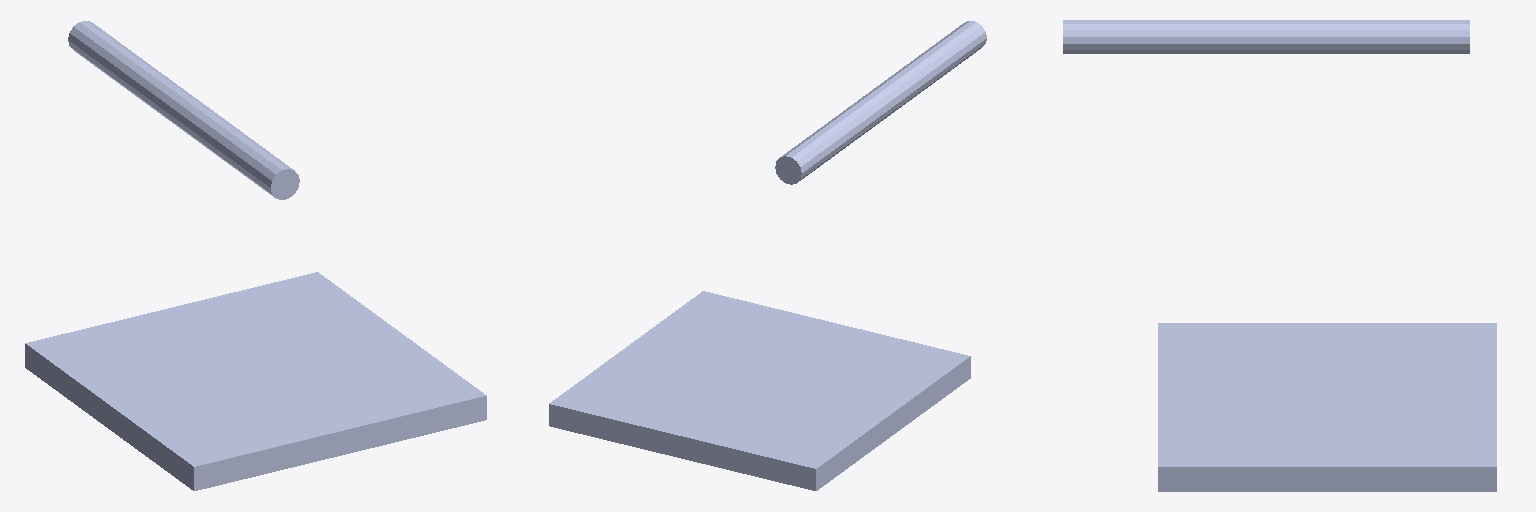
The robot description file, URDF, robot "grasp":
<?xml version="1.0" encoding="utf-8"?>
<!-- This URDF was automatically created by SolidWorks to URDF Exporter! Originally created by Stephen Brawner (brawner@gmail.com) 
     Commit Version: 1.6.0-4-g7f85cfe  Build Version: 1.6.7995.38578
     For more information, please see http://wiki.ros.org/sw_urdf_exporter -->
<robot
  name="grasp">
  <link
    name="base_link">
    <inertial>
      <origin
        xyz="-1.74535037196456E-17 -0.00816566234932665 1.62758265662701E-17"
        rpy="0 0 0" />
      <mass
        value="0.110137166941154" />
      <inertia
        ixx="0.000119442941686907"
        ixy="-2.18819689009832E-21"
        ixz="1.00533007844443E-20"
        iyy="0.000201561725123519"
        iyz="-5.82720918507605E-21"
        izz="8.42429416869073E-05" />
    </inertial>
    <visual>
      <origin
        xyz="0 0 0"
        rpy="0 0 0" />
      <geometry>
        <mesh
          filename="package://grasp/meshes/base_link.STL" />
      </geometry>
      <material
        name="">
        <color
          rgba="0.792156862745098 0.819607843137255 0.933333333333333 1" />
      </material>
    </visual>
    <collision>
      <origin
        xyz="0 0 0"
        rpy="0 0 0" />
      <geometry>
        <mesh
          filename="package://grasp/meshes/base_link.STL" />
      </geometry>
    </collision>
  </link>
  <link
    name="ld">
    <inertial>
      <origin
        xyz="-8.61561256365606E-19 0.02 0.004"
        rpy="0 0 0" />
      <mass
        value="0.08" />
      <inertia
        ixx="6.70933333333333E-05"
        ixy="2.52899986831941E-20"
        ixz="-1.69445820945071E-20"
        iyy="6.70933333333333E-05"
        iyz="-4.22319333728353E-22"
        izz="0.000133333333333333" />
    </inertial>
    <visual>
      <origin
        xyz="0 0 0"
        rpy="0 0 0" />
      <geometry>
        <mesh
          filename="package://grasp/meshes/ld.STL" />
      </geometry>
      <material
        name="">
        <color
          rgba="0.792156862745098 0.819607843137255 0.933333333333333 1" />
      </material>
    </visual>
    <collision>
      <origin
        xyz="0 0 0"
        rpy="0 0 0" />
      <geometry>
        <mesh
          filename="package://grasp/meshes/ld.STL" />
      </geometry>
    </collision>
  </link>
  <joint
    name="jd"
    type="fixed">
    <origin
      xyz="0 -0.035 -0.068"
      rpy="0 0 3.1416" />
    <parent
      link="base_link" />
    <child
      link="ld" />
    <axis
      xyz="0 0 0" />
  </joint>
  <link
    name="lu1">
    <inertial>
      <origin
        xyz="0 0 0.06"
        rpy="0 0 0" />
      <mass
        value="0.00942477796076938" />
      <inertia
        ixx="1.13686384151781E-05"
        ixy="-1.99136488891556E-56"
        ixz="1.19366462190883E-38"
        iyy="1.13686384151781E-05"
        iyz="-5.46392484019368E-39"
        izz="1.17809724509617E-07" />
    </inertial>
    <visual>
      <origin
        xyz="0 0 0"
        rpy="0 0 0" />
      <geometry>
        <mesh
          filename="package://grasp/meshes/lu1.STL" />
      </geometry>
      <material
        name="">
        <color
          rgba="0.792156862745098 0.819607843137255 0.933333333333333 1" />
      </material>
    </visual>
    <collision>
      <origin
        xyz="0 0 0"
        rpy="0 0 0" />
      <geometry>
        <mesh
          filename="package://grasp/meshes/lu1.STL" />
      </geometry>
    </collision>
  </link>
  <joint
    name="ju1"
    type="fixed">
    <origin
      xyz="-0.035 -0.013 0.04"
      rpy="1.5708 0 0" />
    <parent
      link="base_link" />
    <child
      link="lu1" />
    <axis
      xyz="0 0 0" />
  </joint>
  <link
    name="lu2">
    <inertial>
      <origin
        xyz="-6.93889390390723E-18 0 0.06"
        rpy="0 0 0" />
      <mass
        value="0.00942477796076938" />
      <inertia
        ixx="1.13686384151781E-05"
        ixy="-1.99136488891556E-56"
        ixz="1.19366462190883E-38"
        iyy="1.13686384151781E-05"
        iyz="-5.46392484019368E-39"
        izz="1.17809724509617E-07" />
    </inertial>
    <visual>
      <origin
        xyz="0 0 0"
        rpy="0 0 0" />
      <geometry>
        <mesh
          filename="package://grasp/meshes/lu2.STL" />
      </geometry>
      <material
        name="">
        <color
          rgba="0.792156862745098 0.819607843137255 0.933333333333333 1" />
      </material>
    </visual>
    <collision>
      <origin
        xyz="0 0 0"
        rpy="0 0 0" />
      <geometry>
        <mesh
          filename="package://grasp/meshes/lu2.STL" />
      </geometry>
    </collision>
  </link>
  <joint
    name="ju2"
    type="fixed">
    <origin
      xyz="0.035 -0.013 0.04"
      rpy="1.5708 0 0" />
    <parent
      link="base_link" />
    <child
      link="lu2" />
    <axis
      xyz="0 0 0" />
  </joint>
</robot>

--- Facts derived from the render (not from the file) ---
The picture shows the robot from 3 angles, left to right: view 1: azimuth 30°, elevation 25°; view 2: azimuth 150°, elevation 25°; view 3: azimuth 270°, elevation 25°; orthographic projection.
Robot: grasp — 4 links, 3 joints (3 fixed); root link base_link; default pose: every joint at zero.
Visible links, largest first — view 1: ld, lu1; view 2: ld, lu1; view 3: ld, lu1.
Link boxes in pixels (x1,y1,x2,y2): ld: (25,272,486,490); lu1: (68,21,299,199); ld: (549,291,970,490); lu1: (775,21,986,184); ld: (1158,323,1496,491); lu1: (1063,20,1469,53).
Size in the robot's own frame: 0.1 by 0.128 by 0.1129 metres.
Meshes: 4 distinct files referenced, 2 mesh visuals loaded (2 binary STL); not drawn: 2 (reference not matched to a file when rendering).
